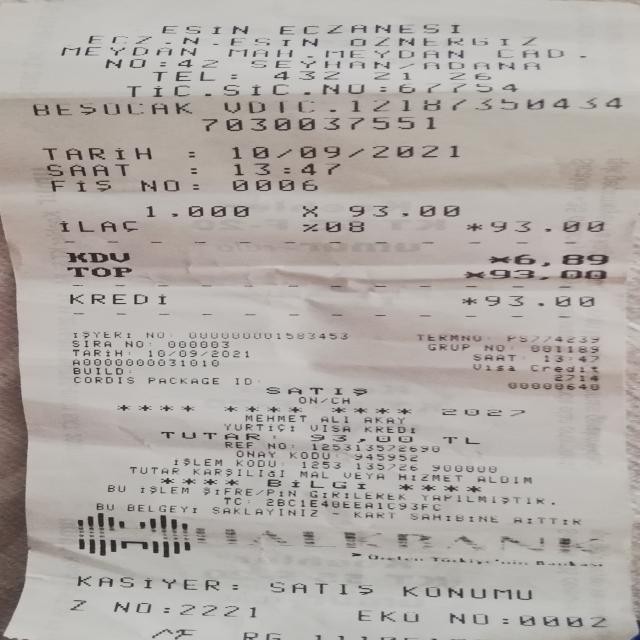text: (194, 527, 600, 555), (223, 97, 621, 113), (230, 144, 458, 160), (228, 46, 463, 60), (88, 34, 316, 48), (201, 118, 435, 130), (78, 573, 216, 592), (350, 34, 535, 48), (32, 100, 192, 115), (279, 22, 458, 35), (402, 584, 529, 602), (266, 499, 439, 511), (61, 44, 194, 58), (189, 330, 353, 341), (270, 579, 370, 597), (251, 58, 388, 71), (41, 145, 150, 161), (421, 492, 542, 506), (349, 204, 459, 218), (489, 220, 607, 233), (397, 82, 524, 94), (232, 162, 340, 176), (422, 59, 538, 72), (72, 357, 218, 367), (494, 268, 606, 281), (145, 204, 248, 218), (484, 294, 593, 307), (514, 253, 608, 267), (228, 178, 316, 192), (161, 22, 247, 36), (210, 507, 318, 518), (519, 615, 609, 628), (69, 293, 166, 305), (46, 163, 128, 177), (194, 466, 282, 479), (182, 602, 252, 618), (148, 348, 248, 359), (307, 490, 407, 501), (59, 219, 136, 233), (267, 478, 365, 489), (442, 405, 524, 418), (302, 217, 363, 234), (313, 444, 441, 452), (266, 386, 366, 396), (316, 634, 480, 640), (160, 475, 237, 487), (311, 434, 413, 443), (46, 179, 111, 193), (160, 432, 260, 441), (274, 69, 338, 83), (151, 69, 214, 83), (408, 512, 495, 522), (357, 608, 417, 622), (497, 47, 561, 60), (507, 382, 599, 391), (220, 84, 291, 95), (431, 557, 528, 565), (148, 375, 218, 386), (126, 85, 196, 96), (510, 516, 586, 526), (355, 451, 416, 463), (399, 471, 460, 483), (531, 343, 597, 354), (531, 363, 596, 374), (128, 504, 198, 514), (223, 423, 299, 432), (432, 463, 494, 474), (504, 335, 601, 342), (65, 266, 131, 276), (245, 412, 304, 423), (356, 461, 415, 472), (65, 252, 129, 262), (477, 474, 530, 486), (414, 333, 484, 342), (543, 353, 597, 364), (74, 375, 133, 385), (132, 464, 180, 476), (449, 69, 490, 83), (319, 82, 366, 94), (168, 339, 228, 348), (365, 424, 414, 435), (105, 57, 144, 70), (343, 469, 382, 482), (148, 628, 194, 639), (367, 554, 423, 563), (449, 612, 491, 624), (374, 69, 409, 83), (72, 348, 121, 358), (72, 366, 121, 376), (199, 487, 253, 496), (476, 352, 520, 363), (137, 180, 177, 192), (116, 599, 147, 614), (472, 362, 514, 373), (178, 58, 216, 70), (69, 331, 133, 338), (442, 434, 478, 446), (532, 560, 604, 566), (428, 342, 468, 352), (140, 486, 190, 494), (302, 459, 338, 470), (364, 415, 403, 425), (288, 450, 327, 460), (185, 457, 220, 468), (555, 373, 597, 382), (237, 458, 274, 468), (243, 630, 279, 640), (72, 339, 110, 348), (352, 511, 394, 519), (309, 424, 350, 432), (267, 487, 293, 499), (488, 253, 510, 267), (300, 469, 328, 480), (237, 451, 276, 458), (321, 414, 347, 424), (224, 440, 250, 450), (483, 342, 503, 352), (462, 222, 482, 232), (302, 204, 316, 218), (96, 501, 112, 513), (145, 330, 163, 340), (298, 395, 316, 405), (330, 396, 348, 406), (108, 482, 123, 494), (267, 440, 284, 450), (224, 495, 239, 506), (125, 339, 143, 348), (463, 268, 475, 281), (462, 294, 475, 306), (72, 597, 82, 612), (236, 376, 250, 386), (188, 144, 194, 161), (230, 69, 237, 83), (272, 431, 280, 442), (188, 167, 199, 175), (191, 183, 202, 191), (159, 57, 165, 70), (175, 456, 182, 466), (502, 612, 507, 625), (580, 48, 584, 60), (406, 59, 410, 71), (332, 511, 340, 517), (257, 486, 260, 498), (234, 578, 236, 592), (165, 601, 167, 615), (322, 396, 325, 405), (280, 458, 282, 468), (170, 330, 171, 340), (511, 343, 512, 353), (149, 340, 150, 348), (128, 348, 128, 358), (353, 456, 354, 456)
